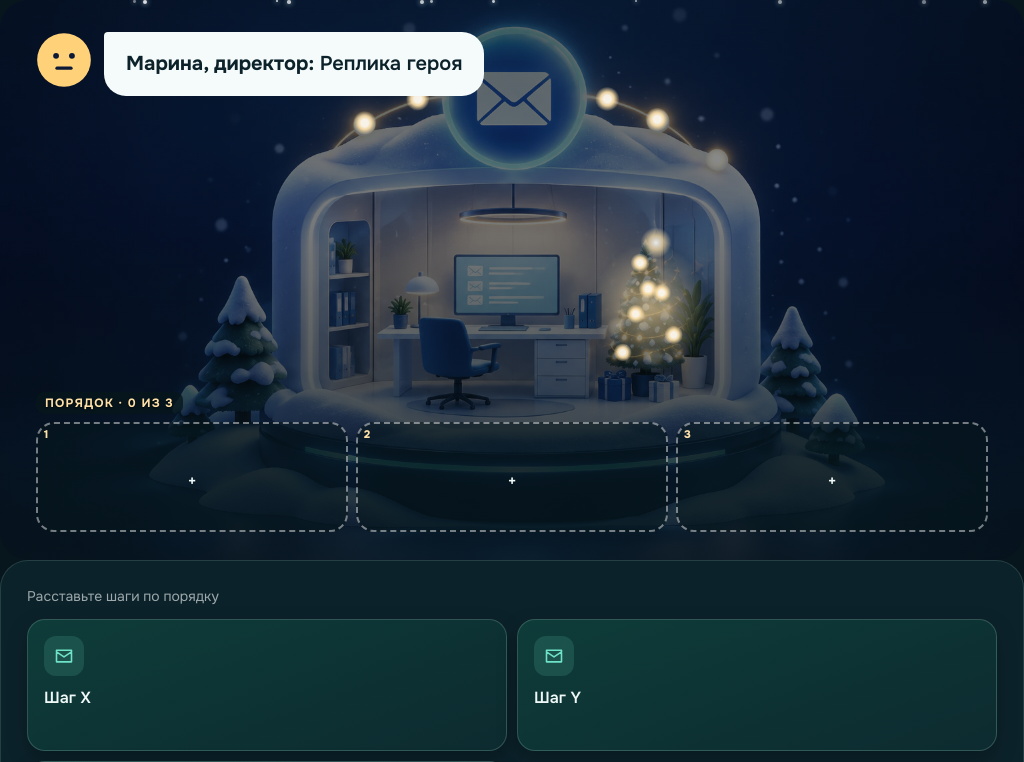
Scenario: order › повторный тап снимает карточку; Backspace в позиции тоже
Click the button "Шаг X" at point(64, 656), box [27,619,507,751]
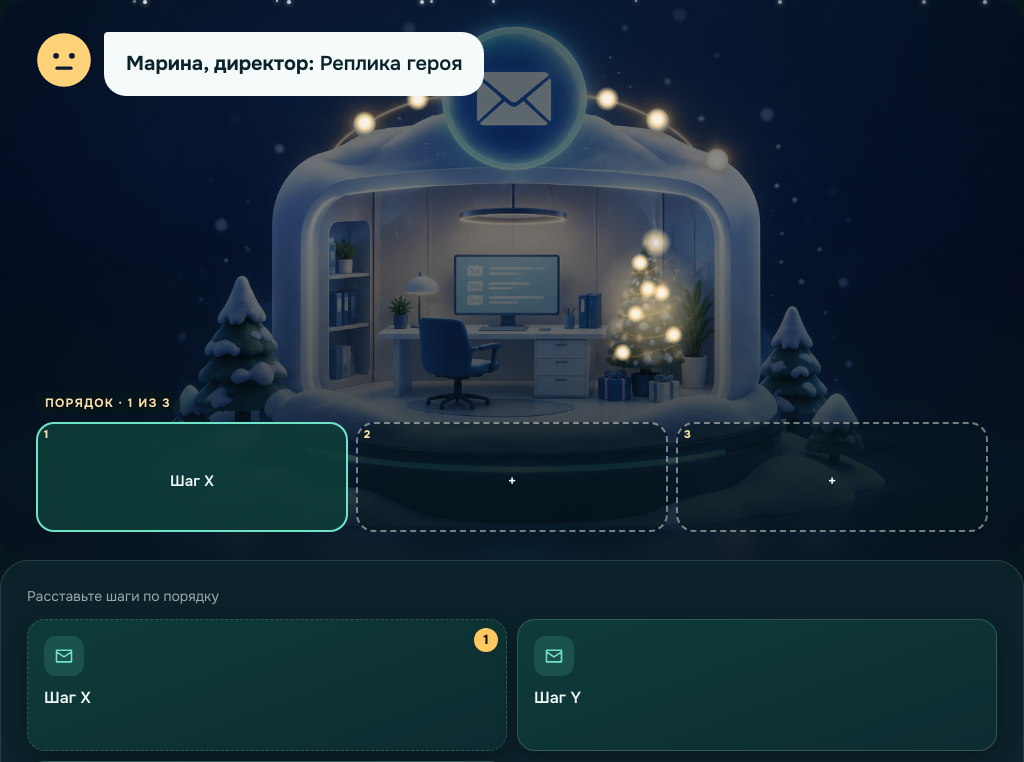
Click the button with aria-label "Шаг X, позиция 1" at point(64, 656), box [27,619,507,751]
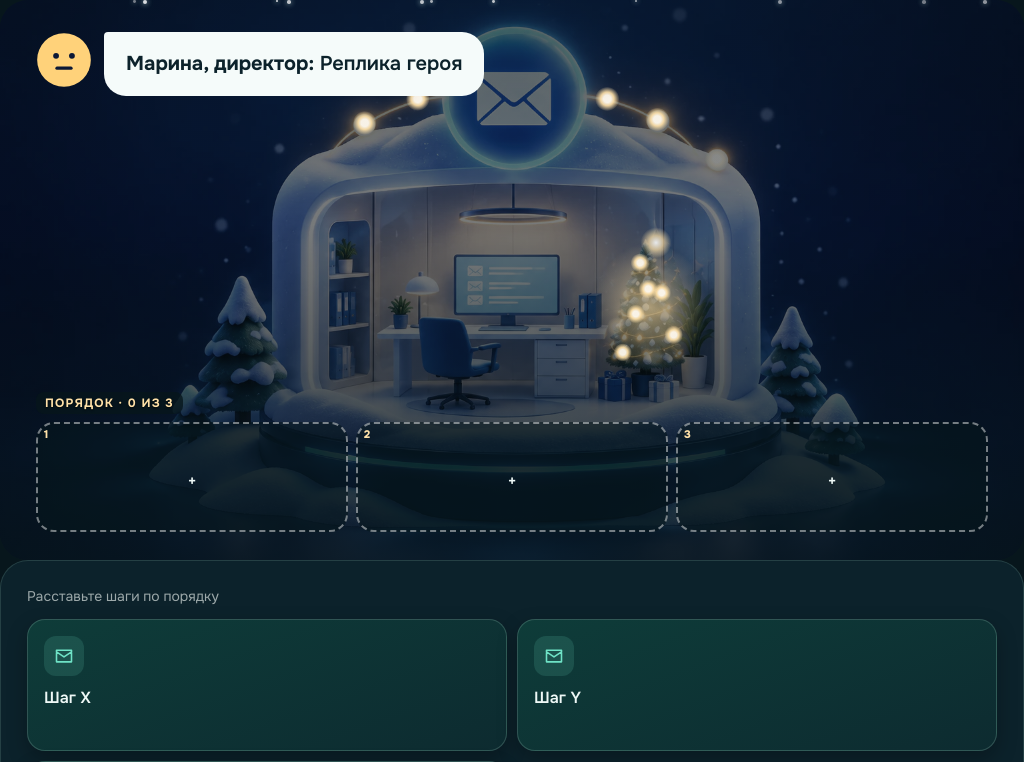
expect the list named "Выбранный порядок: 0 из 3" is shown: met, box [36,422,988,532]
Click the button "Шаг Y" at point(554, 656), box [517,619,997,751]
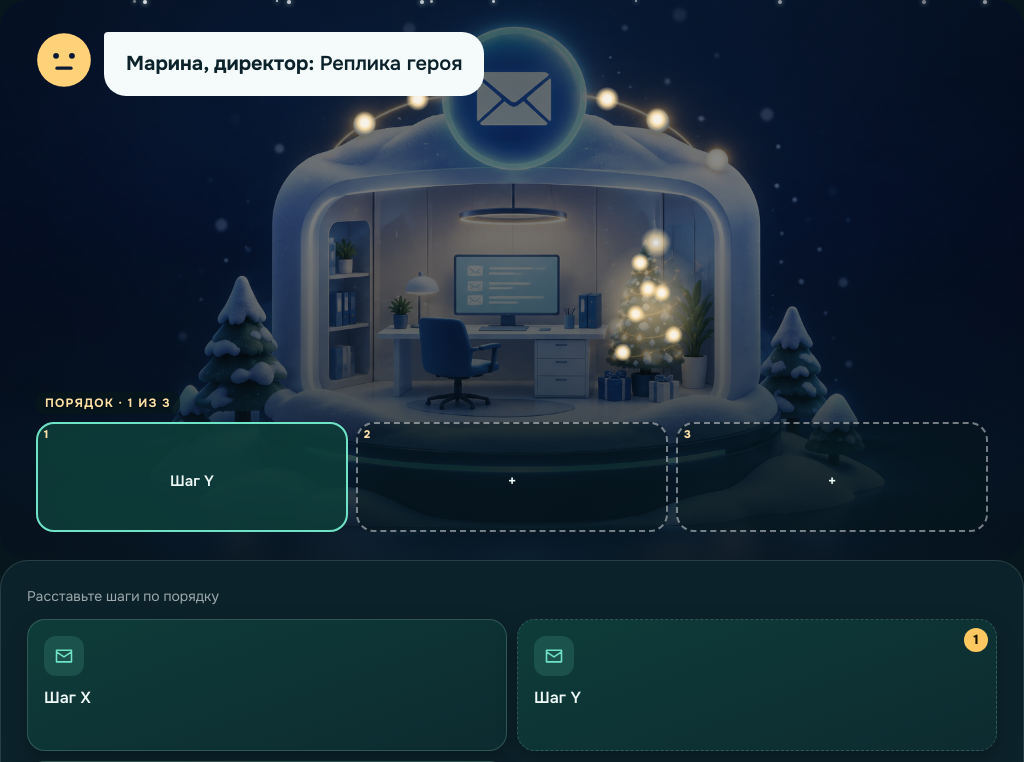
Press Backspace in the button with aria-label "Позиция 1: «Шаг Y»", box [36,422,348,532]
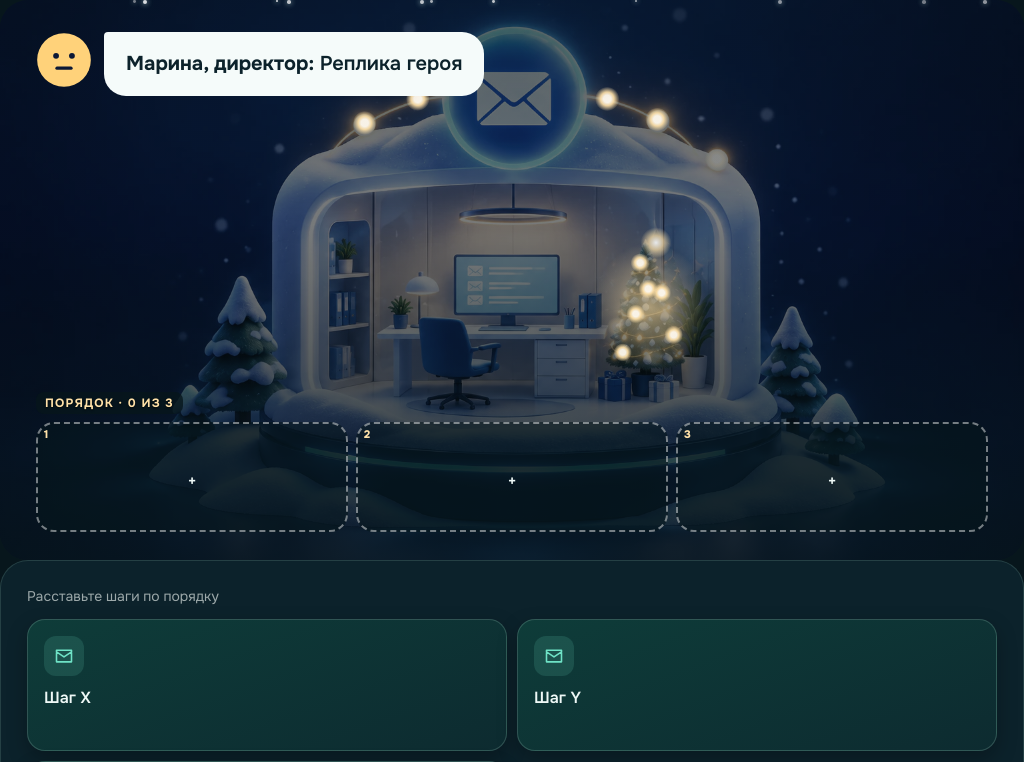
expect the list named "Выбранный порядок: 0 из 3" is shown: met, box [36,422,988,532]
